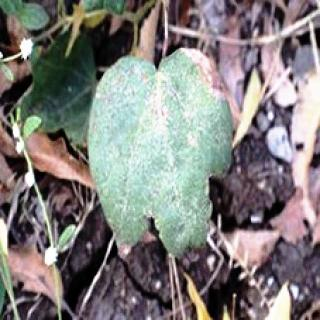grey mildew: (105, 45, 233, 193)
